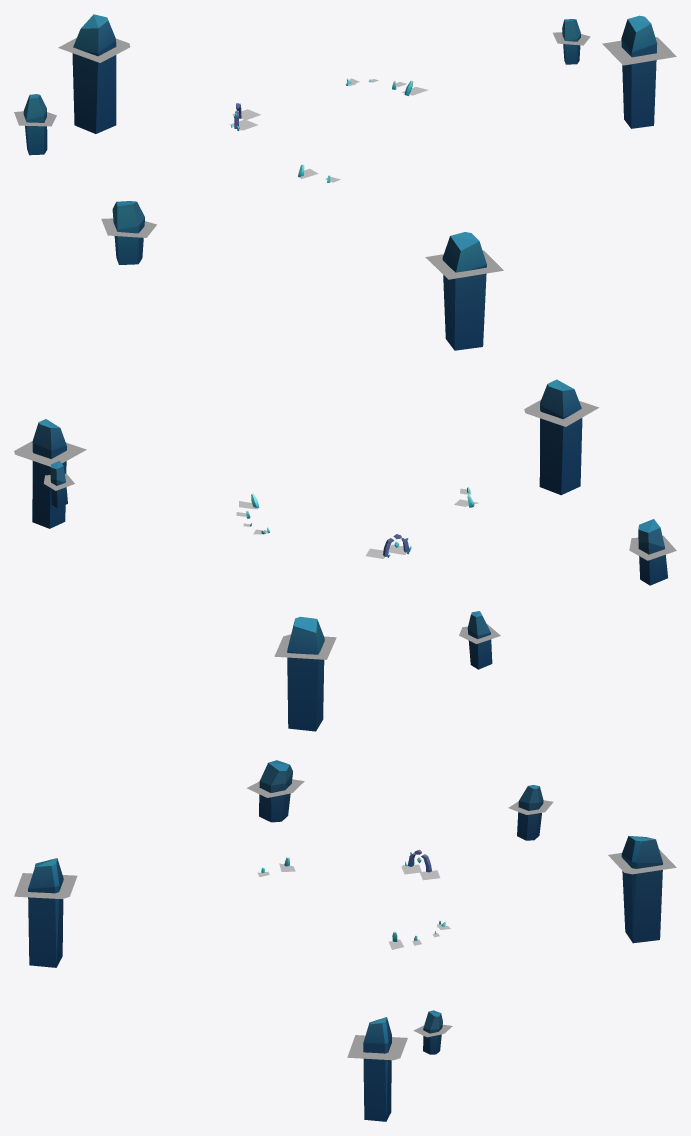
Rendered from Infinite_TrialSkin_Decoration.fbx.
3 renders of one model, top to bottom at view 1: azimuth 30°, elevation 25°; view 2: azimuth 150°, elevation 25°; view 3: azimuth 270°, elevation 25°, orthographic. The views are drawn at different scales.
Parts seen in each view (by area): view 1: Infinite_TrialSkin_Decoration, Infinite_TrialSkin_Effect, Infinite_TrialSkin_Decoration_Shadow; view 2: Infinite_TrialSkin_Decoration, Infinite_TrialSkin_Effect, Infinite_TrialSkin_Decoration_Shadow; view 3: Infinite_TrialSkin_Decoration, Infinite_TrialSkin_Effect, Infinite_TrialSkin_Decoration_Shadow.
Part boxes in pixels (box(x1,y1,x2,y2)): Infinite_TrialSkin_Decoration: box(23, 14, 657, 350); Infinite_TrialSkin_Effect: box(14, 32, 676, 279); Infinite_TrialSkin_Decoration_Shadow: box(229, 78, 428, 182); Infinite_TrialSkin_Decoration: box(32, 379, 667, 731); Infinite_TrialSkin_Effect: box(14, 400, 676, 659); Infinite_TrialSkin_Decoration_Shadow: box(236, 488, 478, 558); Infinite_TrialSkin_Decoration: box(28, 760, 662, 1121); Infinite_TrialSkin_Effect: box(14, 779, 676, 1060); Infinite_TrialSkin_Decoration_Shadow: box(257, 863, 450, 949).
Size of the model in its own units: 0.4124 by 0.0699 by 0.4064.
